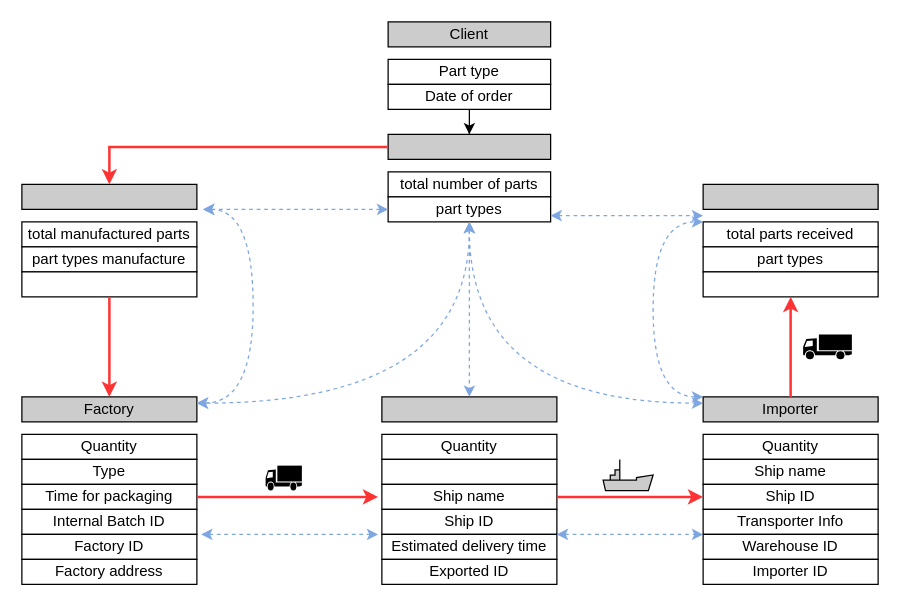
Image size: 900x606. Some labels were removed from this diagram. The box of each missing label's shape, as (x1, y1, x2, y2) in pixels:
date of arrival: (702, 271, 878, 297)
Destination address: (381, 458, 557, 484)
Exporters: (381, 396, 557, 422)
Items used for creating: (21, 271, 197, 297)
OEM: (21, 183, 197, 209)
System Admin: (387, 133, 551, 159)
Warehouse: (702, 183, 878, 209)
